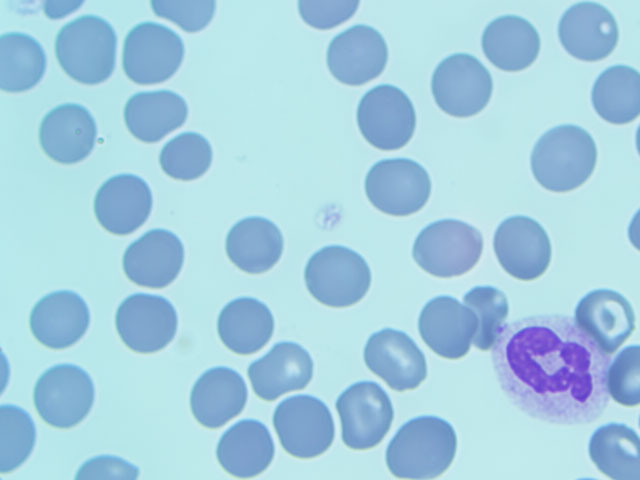Platelets: (311, 199, 352, 236)
RBC: (55, 16, 124, 86), (85, 168, 154, 238), (121, 223, 190, 293), (112, 286, 181, 356), (26, 284, 95, 354), (31, 357, 100, 427), (180, 363, 249, 433), (210, 289, 279, 359), (330, 381, 395, 454), (386, 414, 452, 480), (248, 339, 316, 402), (271, 393, 339, 456), (35, 104, 100, 165), (363, 329, 428, 390), (418, 294, 483, 355), (489, 214, 554, 275), (418, 218, 483, 279), (366, 154, 431, 215), (352, 87, 417, 148), (322, 24, 387, 85), (479, 13, 544, 74), (430, 56, 495, 117), (531, 125, 596, 186), (555, 4, 620, 65), (304, 243, 369, 304), (220, 216, 285, 277), (122, 24, 187, 83), (215, 419, 276, 476), (122, 88, 185, 143), (159, 129, 219, 183), (581, 283, 634, 343), (587, 64, 640, 123)
WBC: (499, 317, 613, 422)
